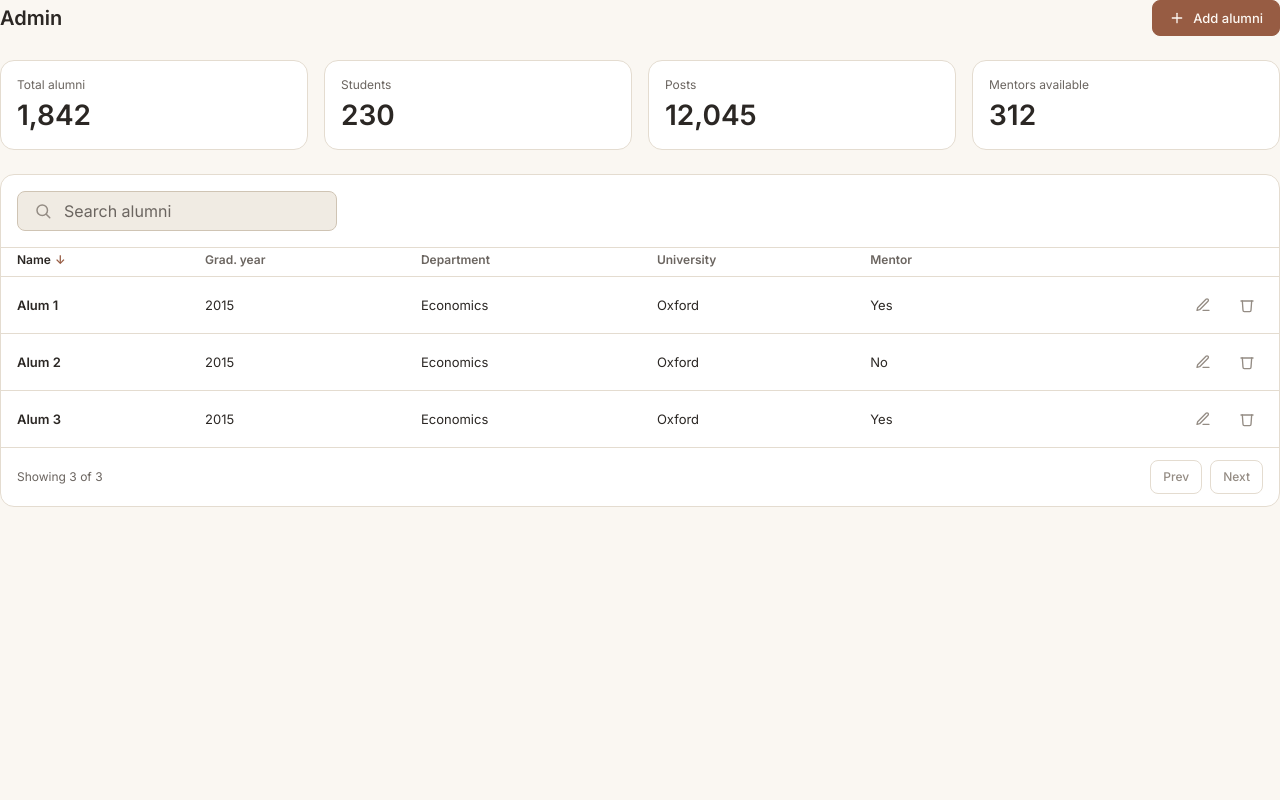
Test case: AlumniDrawer: add › shows a server failure in a focused alert
The width and height of the screenshot is (1280, 800).
Expected: the column heading "Alum 1" is shown, [1,276,189,334]
Click the button "Add alumni" at (1216,18), box [1152,0,1279,36]
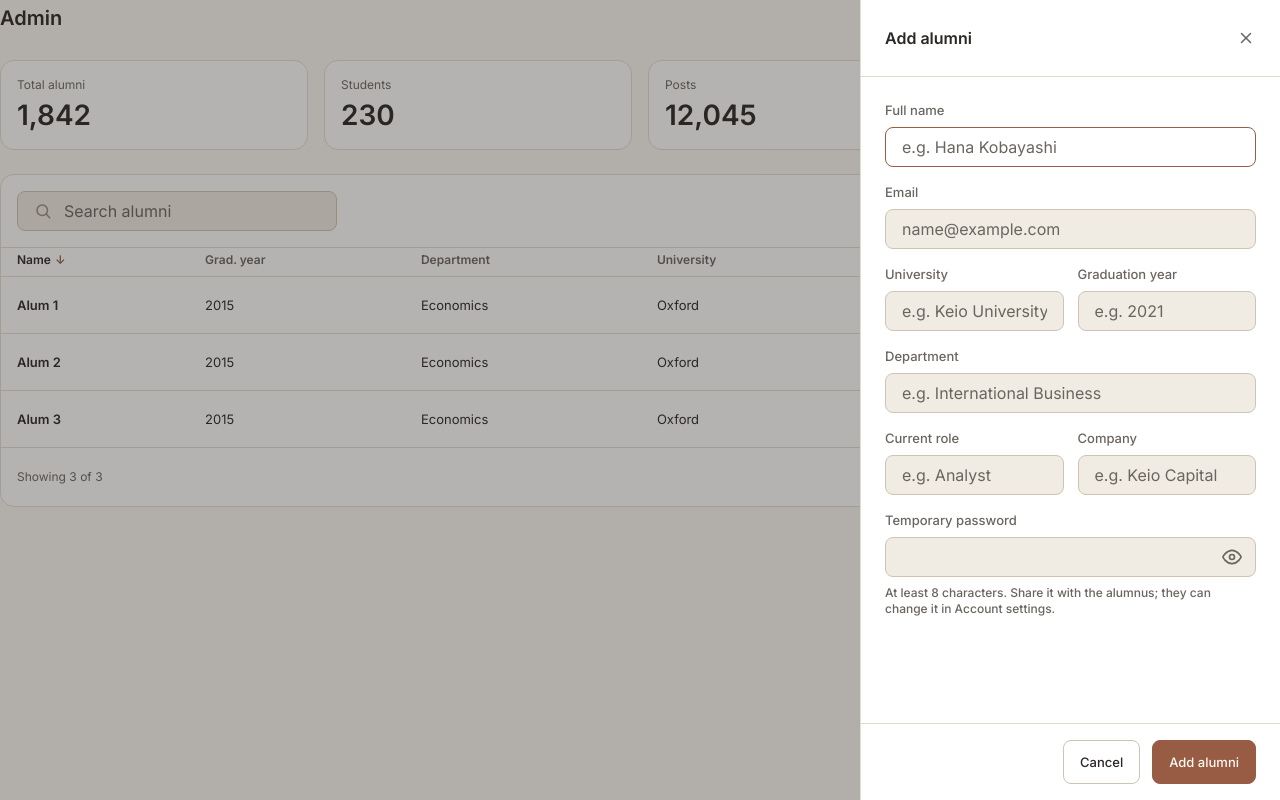
Type "Hana Kobayashi" into the field labelled "Full name" at (1070,147), box [885,127,1256,167]
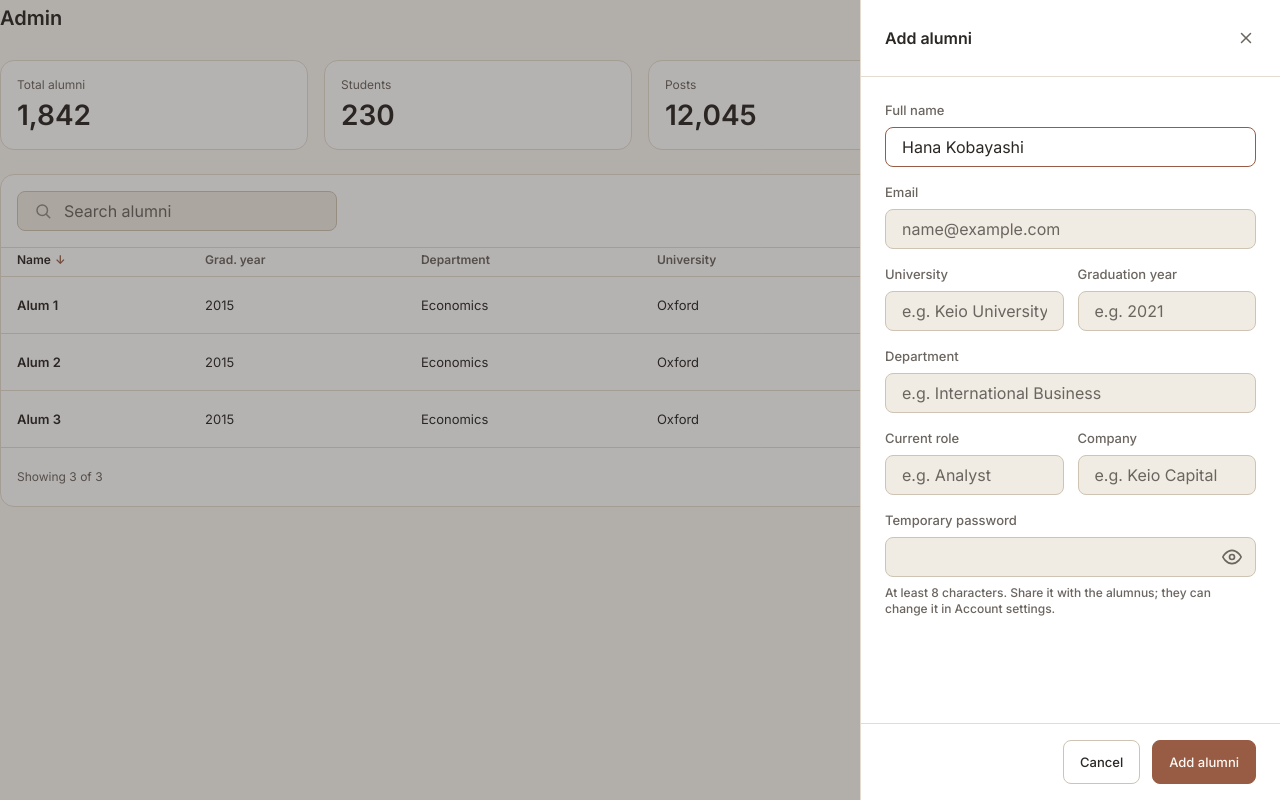
Type "hana@example.com" into the field labelled "Email" at (1070,229), box [885,209,1256,249]
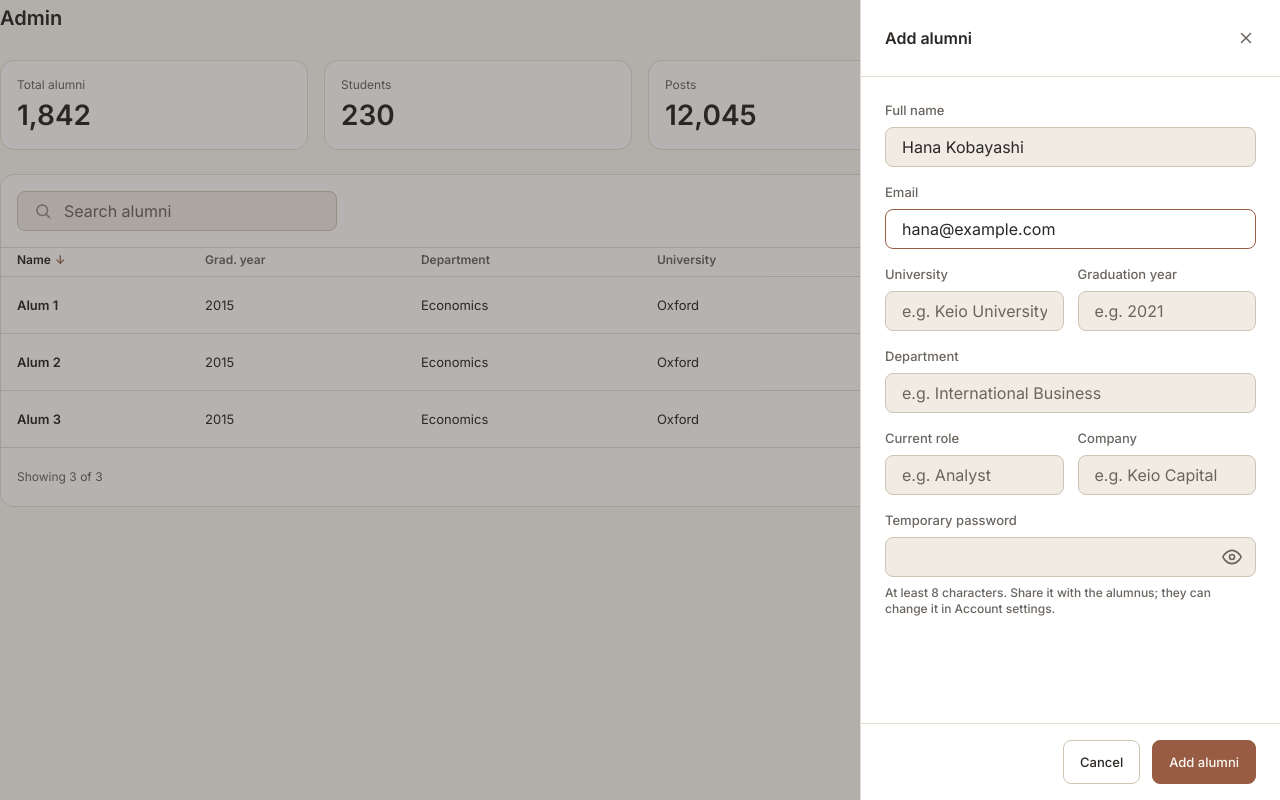
Type "2021" into the field labelled "Graduation year" at (1167,311), box [1078,291,1256,331]
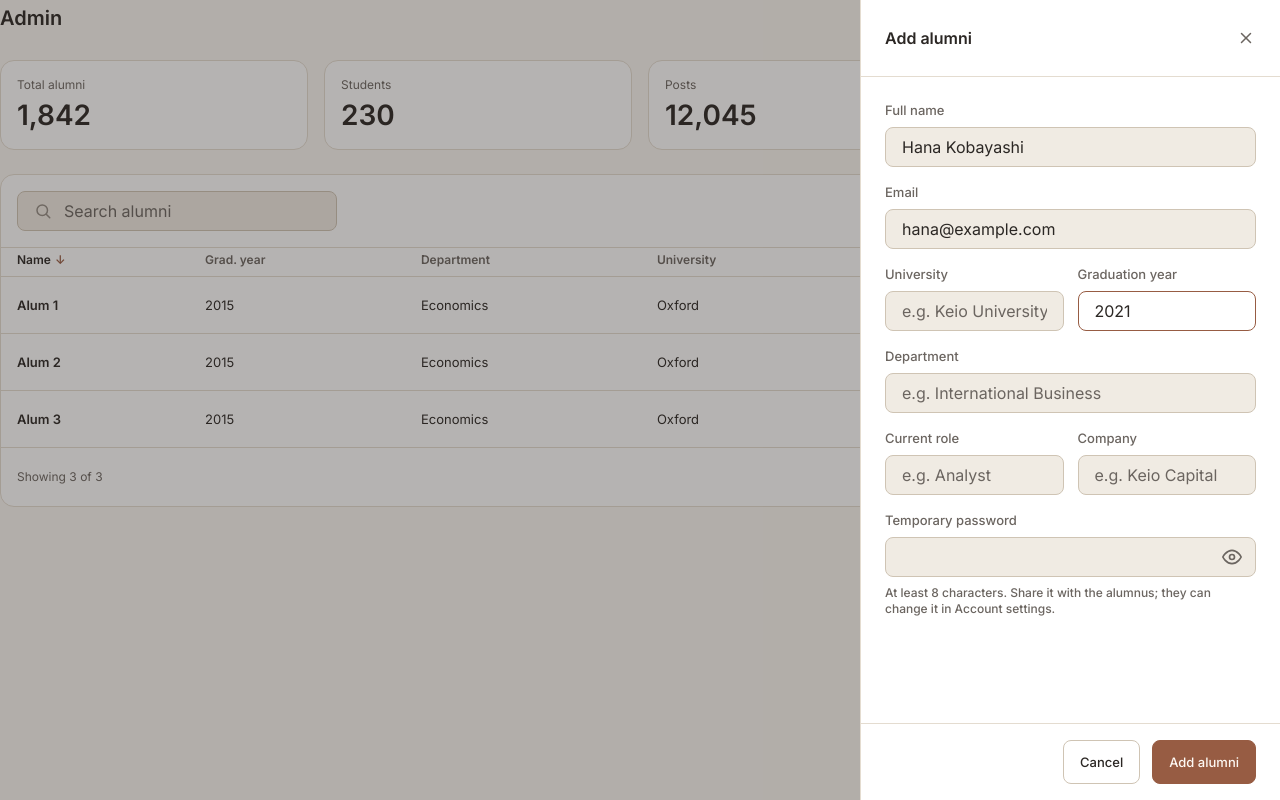
Type "temporary1" into the password field labelled "Temporary password" at (1070,557), box [885,537,1256,577]
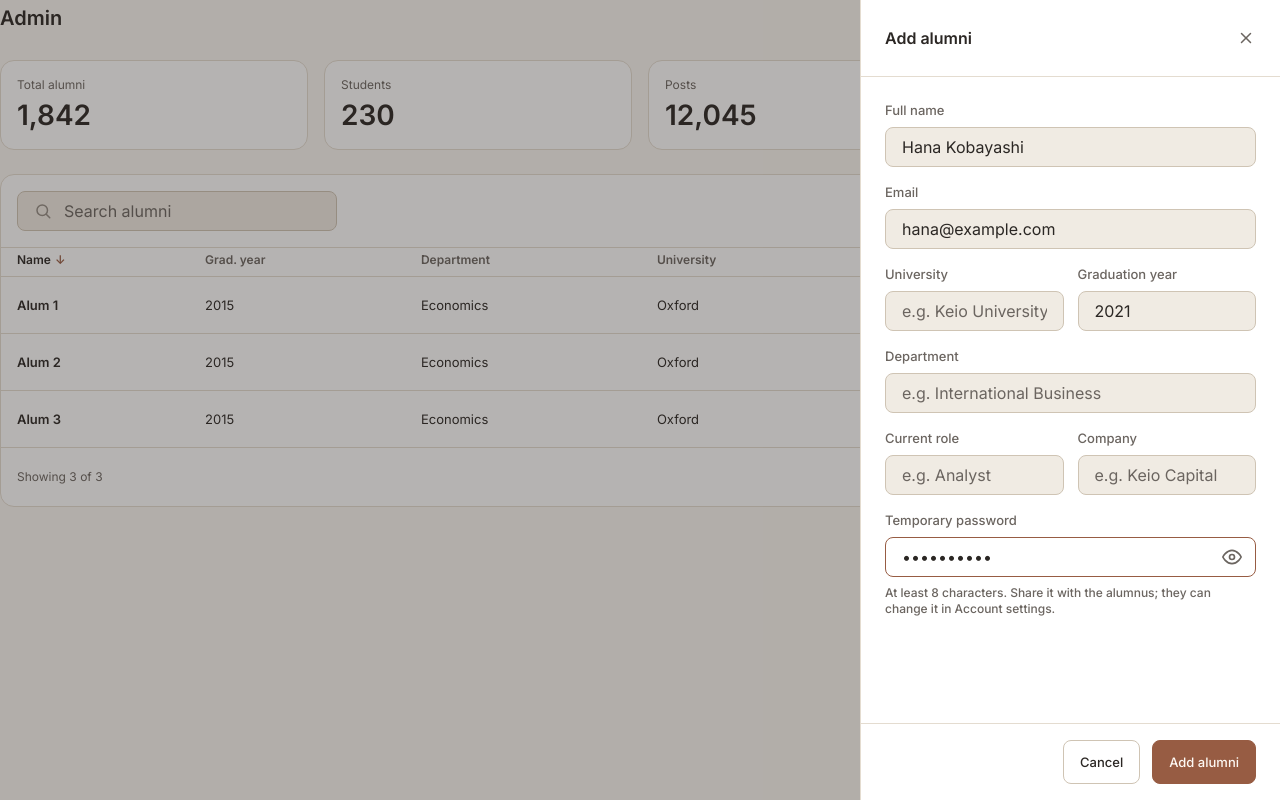
Click the submit button at (1204,762), box [1152,740,1256,784]
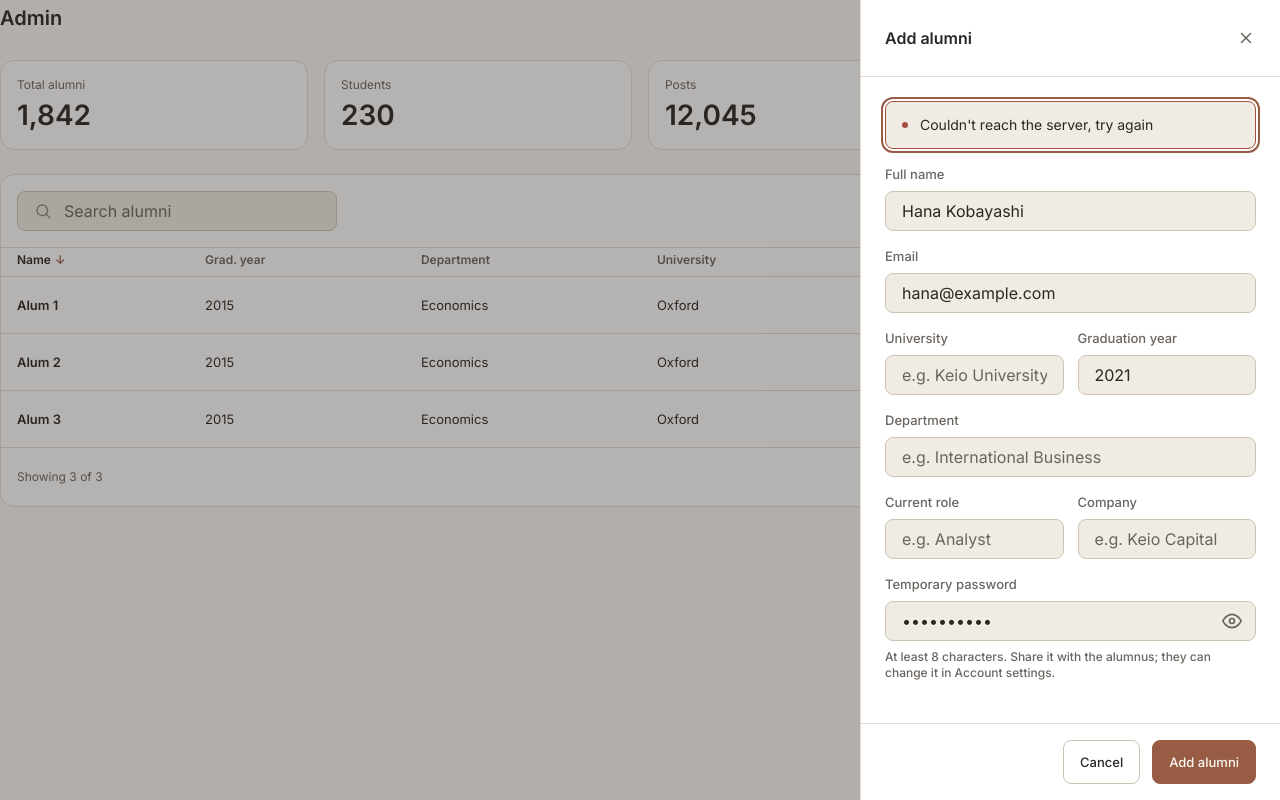
Expected: the message reads "Couldn't reach the server, try again", [920,116,1153,133]
